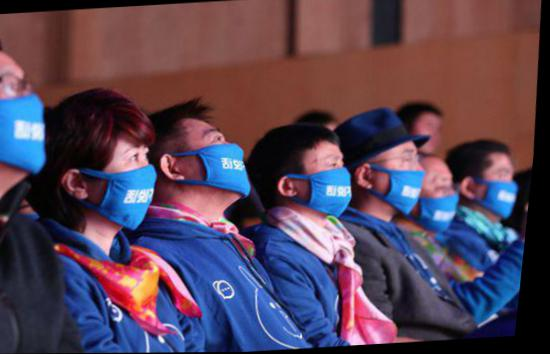OK: (72, 143, 165, 230), (1, 60, 58, 187), (173, 123, 261, 204), (286, 142, 362, 223), (469, 157, 528, 222), (413, 169, 467, 234)
WRONG: (368, 147, 432, 218)
